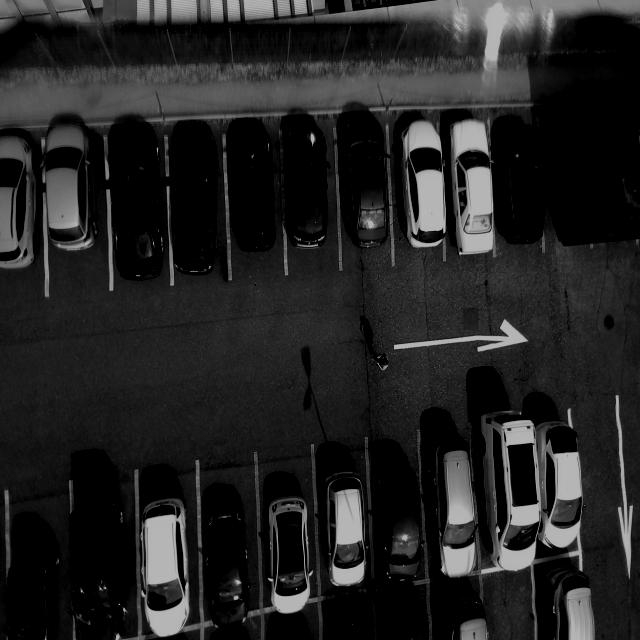car: (105, 124, 165, 285), (482, 414, 541, 575), (69, 495, 127, 640), (43, 120, 100, 257), (427, 437, 480, 580), (141, 491, 192, 639), (170, 127, 219, 280), (338, 115, 393, 251), (450, 117, 499, 257), (398, 116, 449, 250), (283, 122, 333, 253), (230, 124, 279, 257), (537, 421, 585, 554), (264, 493, 314, 616), (501, 123, 550, 248), (1, 126, 41, 275), (376, 465, 426, 584), (320, 472, 369, 592), (1, 545, 62, 640), (204, 507, 250, 630)
